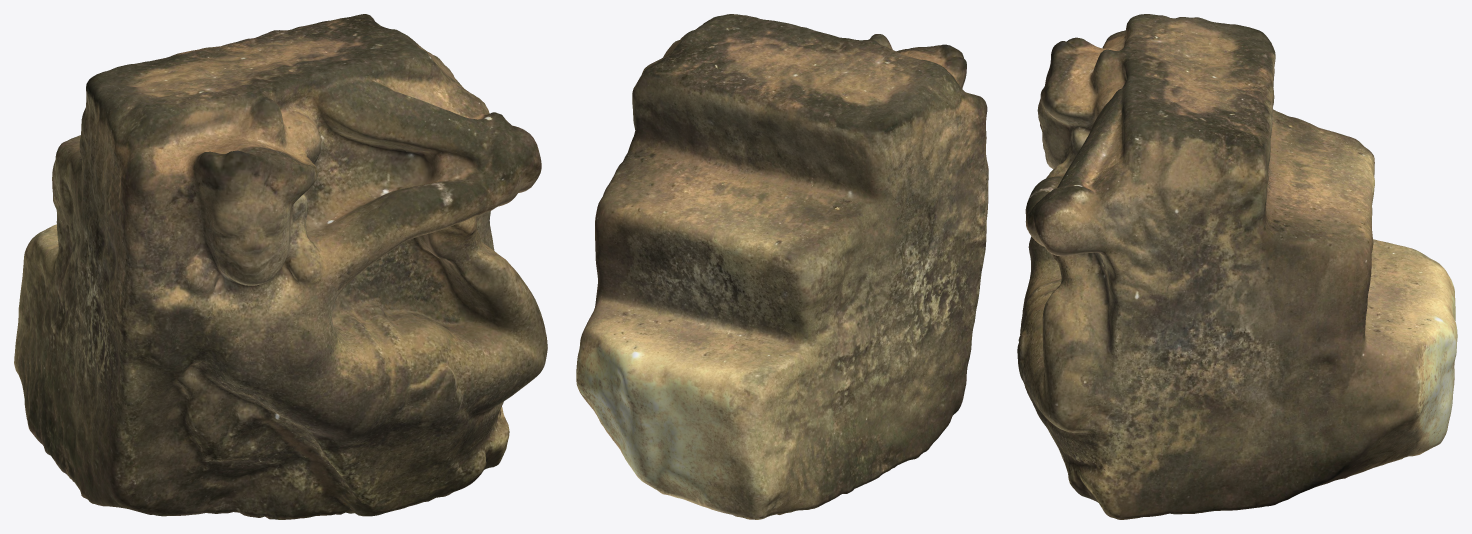
File: 23_MysonSanctuaryD2_chiensibay_final.glb
3 renders of one model, left to right at view 1: azimuth 30°, elevation 25°; view 2: azimuth 150°, elevation 25°; view 3: azimuth 270°, elevation 25°, orthographic. The views are drawn at different scales.
Bounding box in the file's own units: 0.3985 × 0.4233 × 0.4507.
Materials: 1 (1 with a texture image).
